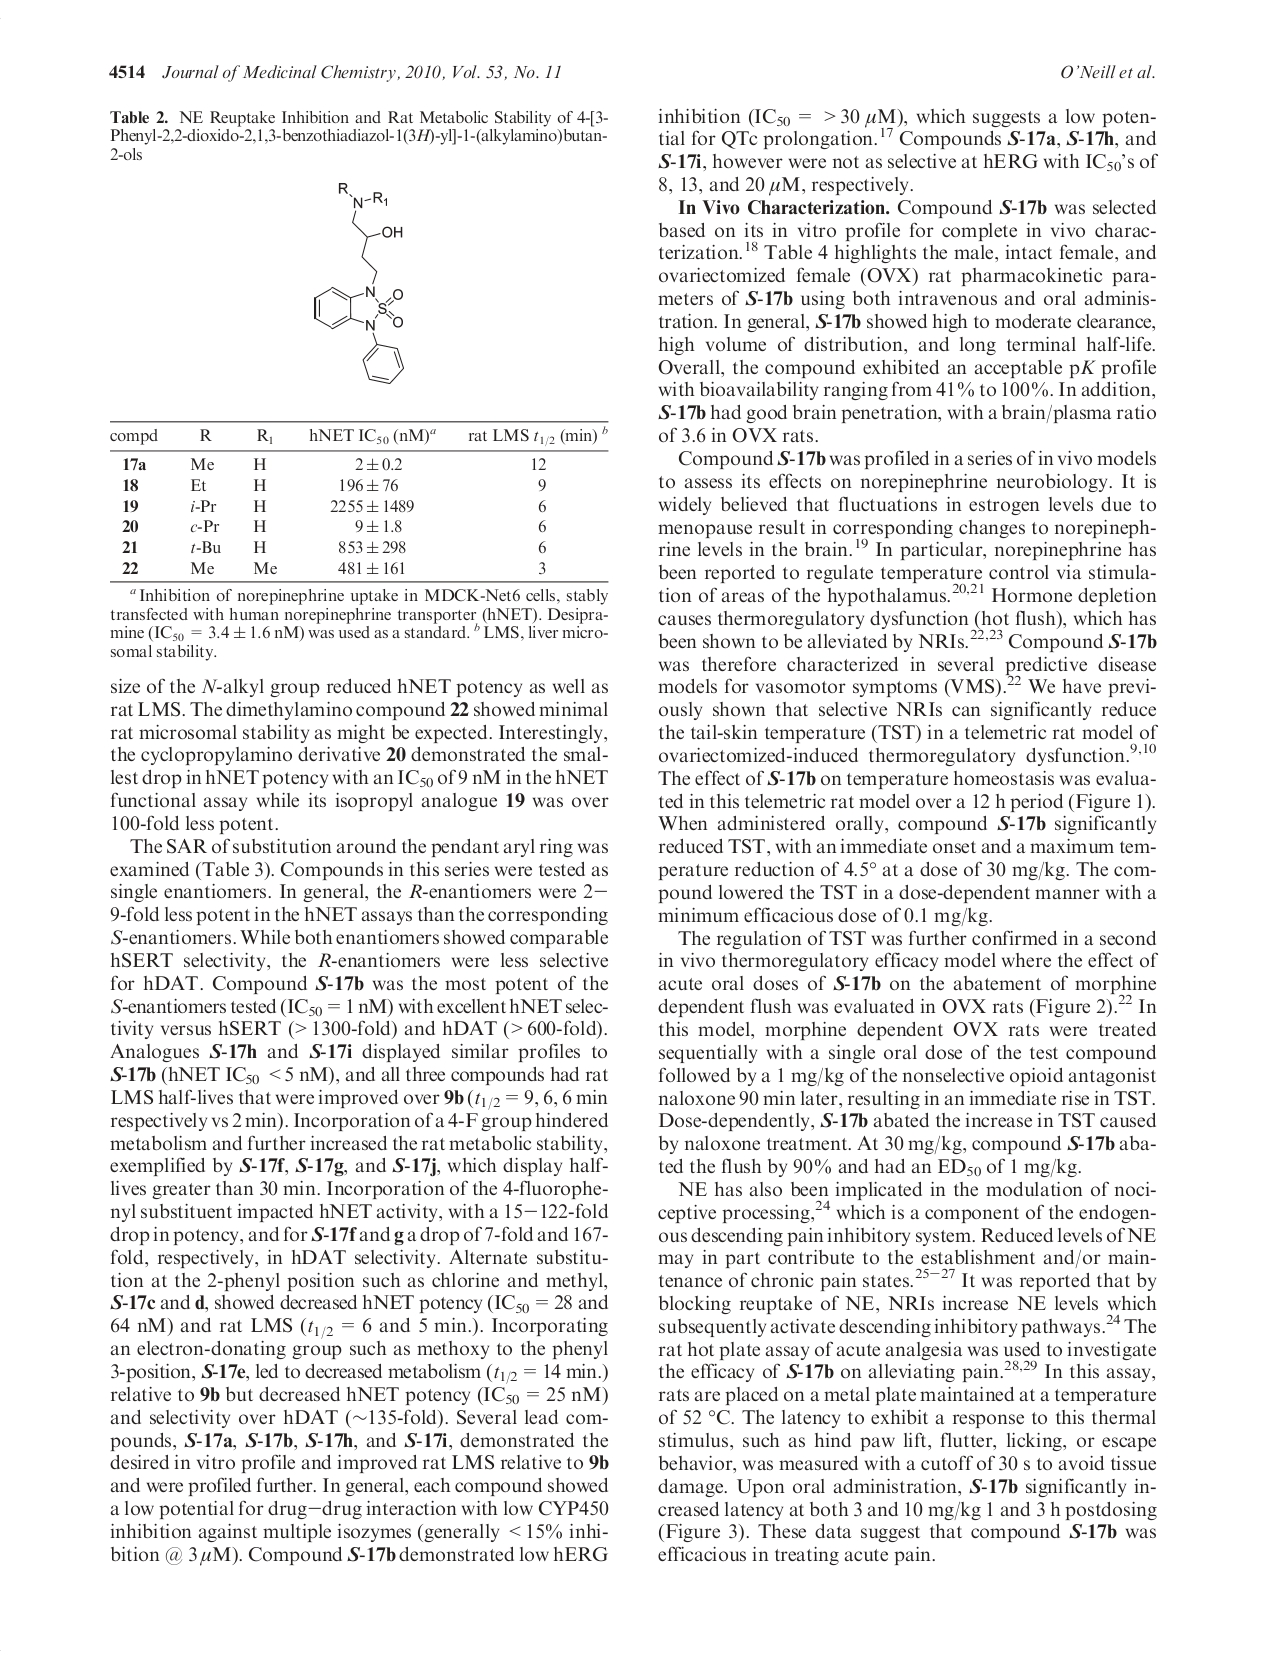exist_molecular: (302, 176, 410, 390)
